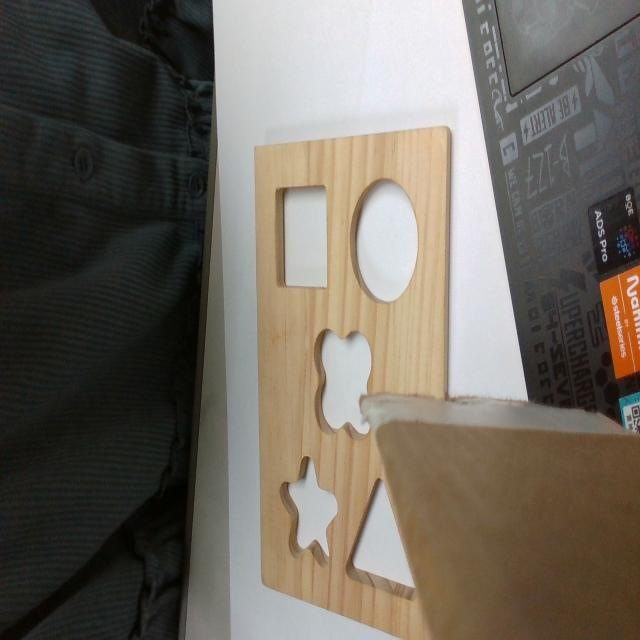circle: (351, 179, 418, 299)
flower: (315, 329, 372, 436)
square: (273, 185, 328, 288)
star: (279, 454, 338, 564)
triangle: (344, 477, 418, 600)
